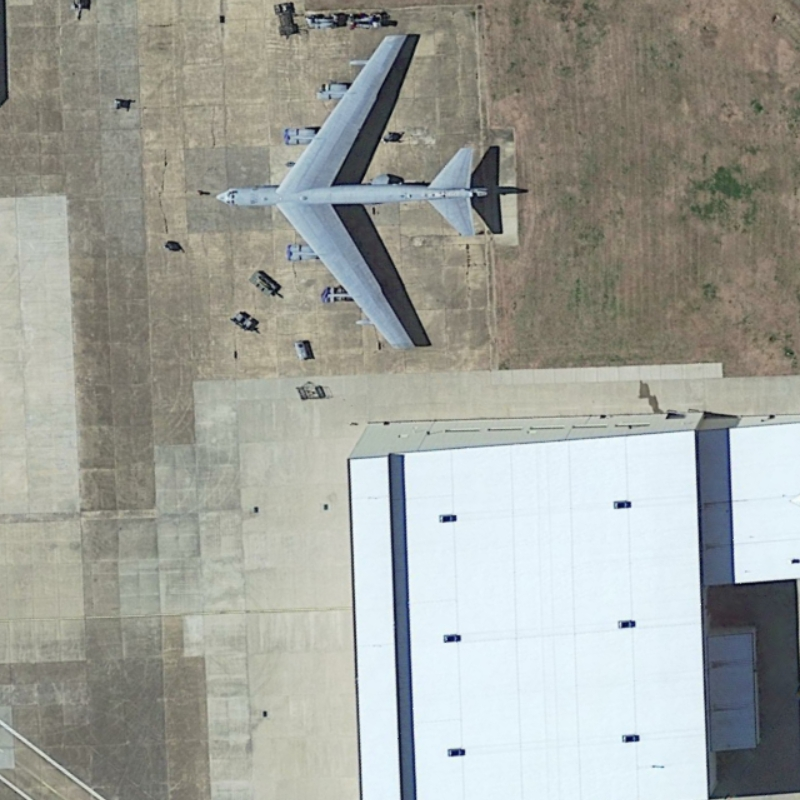A8: (200, 24, 498, 360)
